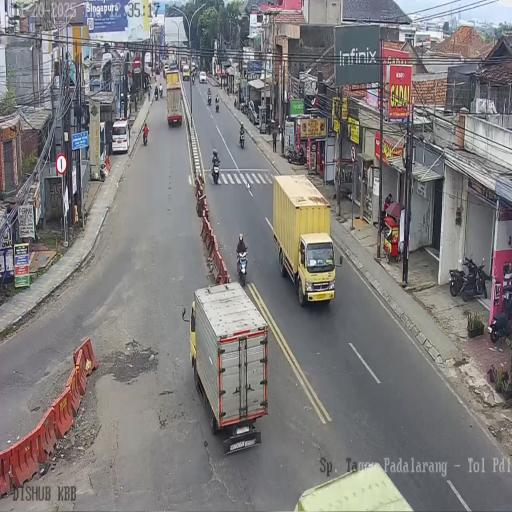car: (111, 119, 130, 154), (199, 70, 207, 84), (190, 63, 197, 76), (163, 63, 169, 77), (170, 60, 177, 71)
motorcycle: (460, 254, 487, 302), (489, 287, 512, 343), (449, 267, 465, 297), (236, 248, 248, 285), (286, 143, 306, 165), (211, 157, 220, 185), (240, 100, 249, 115), (239, 130, 245, 148), (142, 128, 148, 146), (154, 86, 159, 100), (207, 93, 212, 105), (147, 86, 151, 101), (215, 98, 219, 112), (159, 84, 163, 98), (234, 98, 238, 110), (192, 74, 195, 85)
truck: (188, 281, 269, 442), (271, 173, 331, 306), (166, 70, 182, 127), (182, 65, 190, 81)
